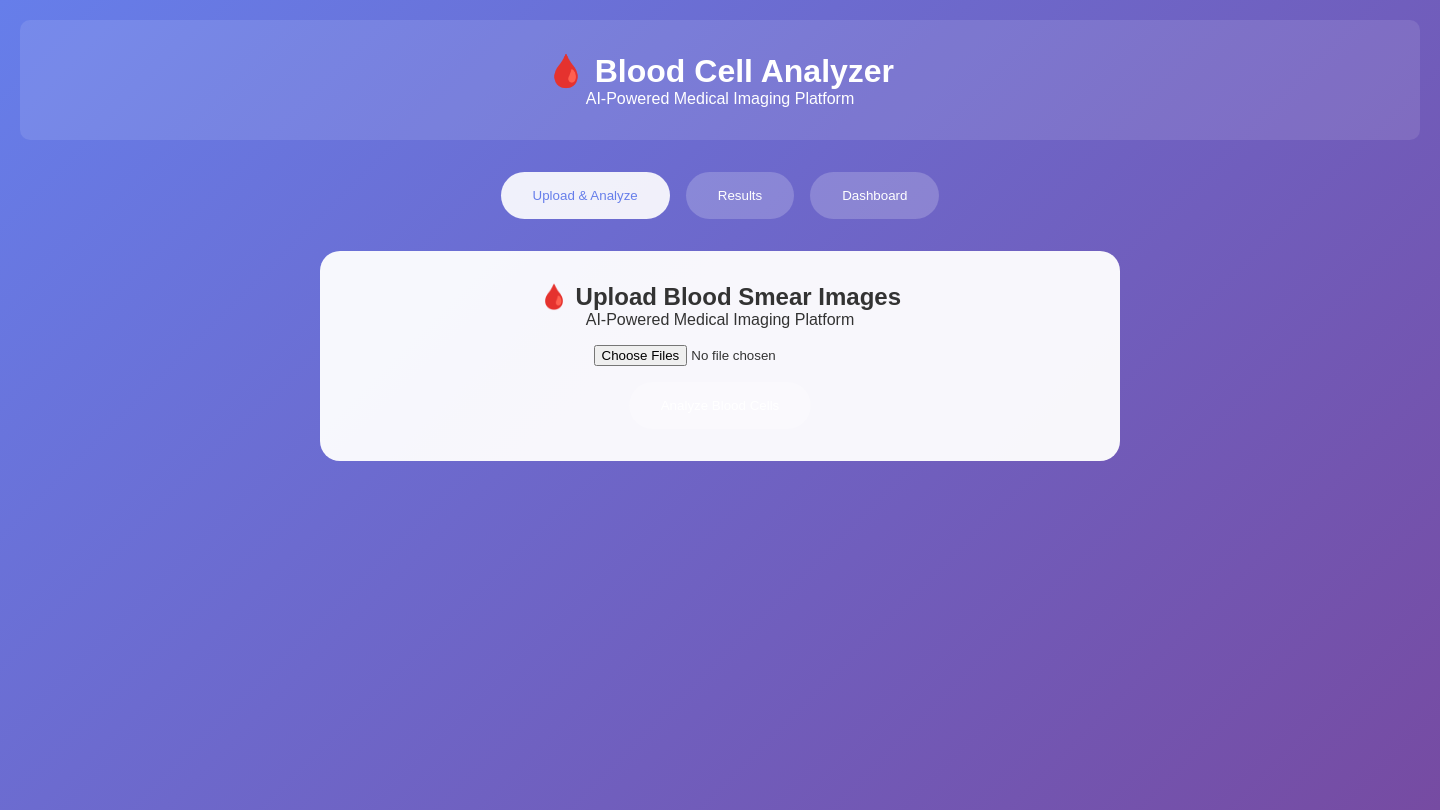
App Component › can switch to dashboard tab
Click the button "Dashboard" at x=875, y=196, box [810,172,939,219]
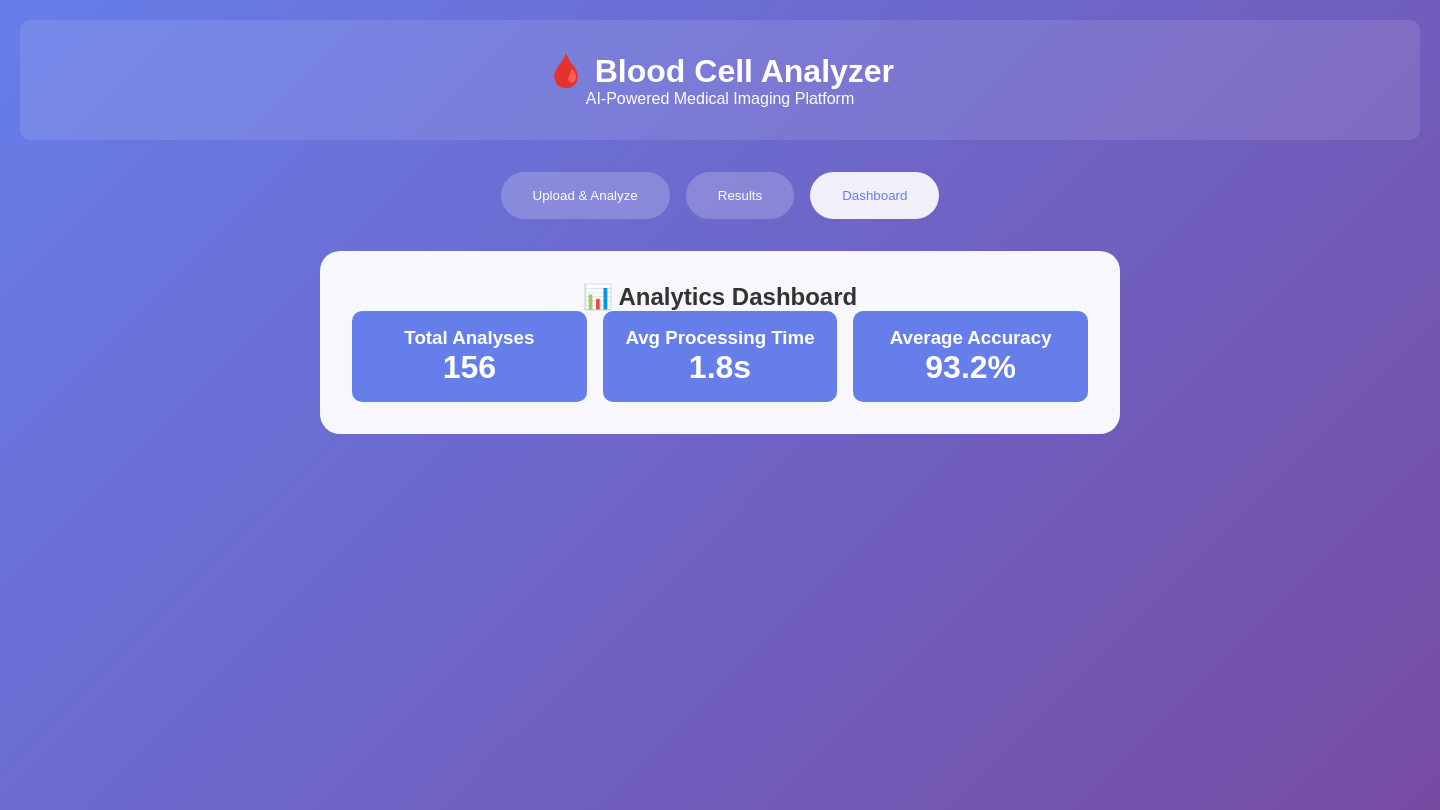
Check: the heading "📊 Analytics Dashboard" is shown, box [583,283,857,310]
